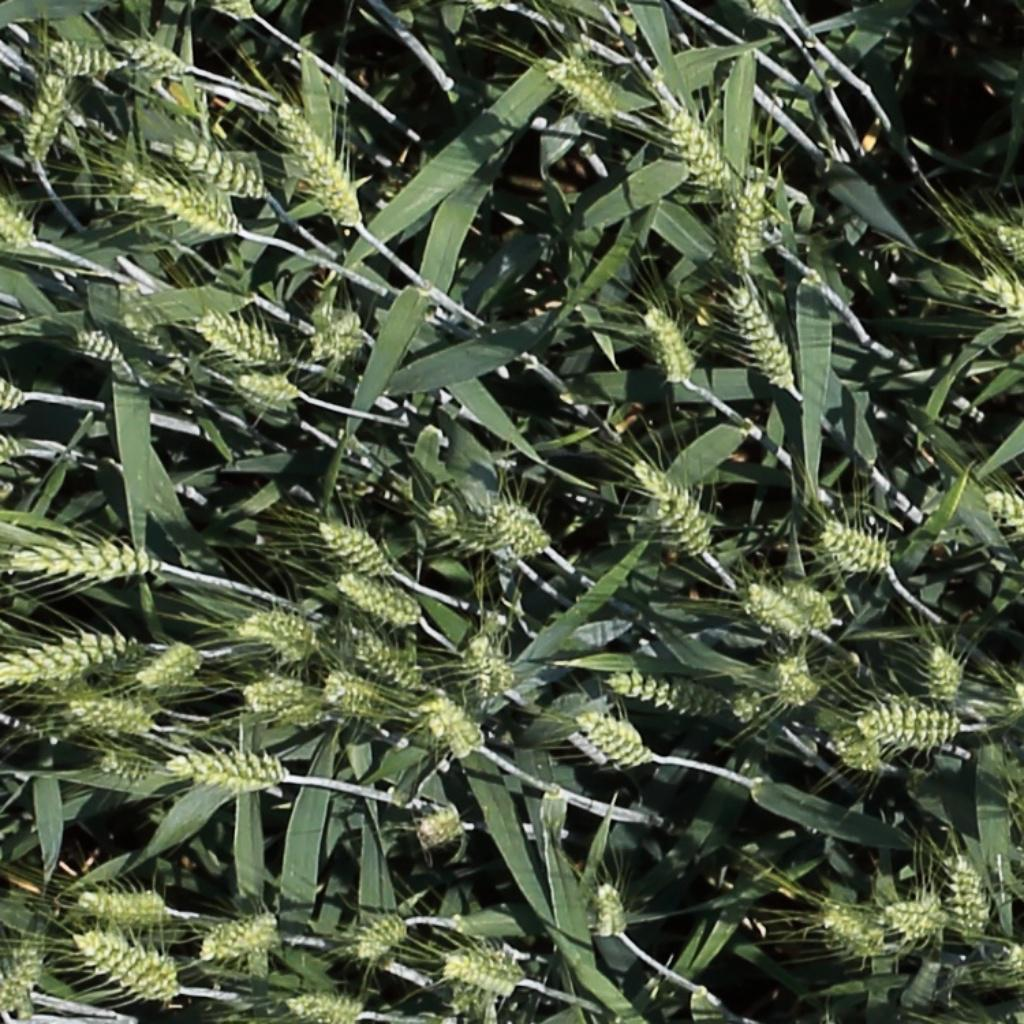0-0: (275, 95, 364, 229), (118, 164, 263, 243), (62, 924, 189, 1014), (0, 627, 152, 691), (6, 533, 166, 591), (159, 743, 298, 807), (844, 694, 966, 761), (567, 704, 670, 781), (730, 279, 798, 393), (633, 460, 716, 551), (664, 99, 735, 192), (728, 177, 777, 283), (236, 606, 324, 664), (176, 137, 266, 193), (820, 518, 900, 581), (611, 675, 729, 716), (70, 884, 173, 930), (645, 300, 696, 389), (438, 950, 529, 999), (318, 521, 395, 578), (542, 58, 617, 116), (25, 66, 66, 166), (873, 889, 950, 942), (423, 696, 486, 759), (948, 846, 988, 944), (197, 315, 282, 359), (338, 577, 421, 622), (276, 988, 376, 1024), (236, 672, 309, 721), (0, 936, 43, 1019), (42, 38, 123, 81), (118, 307, 182, 360), (746, 584, 811, 636), (929, 637, 971, 716), (202, 916, 281, 957), (469, 633, 509, 709), (488, 505, 548, 555), (428, 506, 499, 548), (359, 644, 425, 689), (770, 657, 827, 709), (136, 644, 202, 688), (902, 951, 947, 1015), (782, 582, 839, 632), (65, 701, 152, 733), (117, 38, 189, 76), (824, 906, 886, 950), (978, 271, 1024, 326), (70, 327, 132, 367), (0, 185, 36, 247), (354, 918, 408, 957), (595, 877, 626, 944), (981, 490, 1024, 538), (989, 215, 1024, 265), (416, 812, 465, 847), (236, 375, 301, 401), (98, 756, 162, 780), (318, 673, 369, 702), (996, 936, 1024, 981), (208, 0, 258, 23), (753, 0, 790, 28), (0, 375, 26, 413), (0, 437, 23, 471), (1011, 678, 1024, 710)
